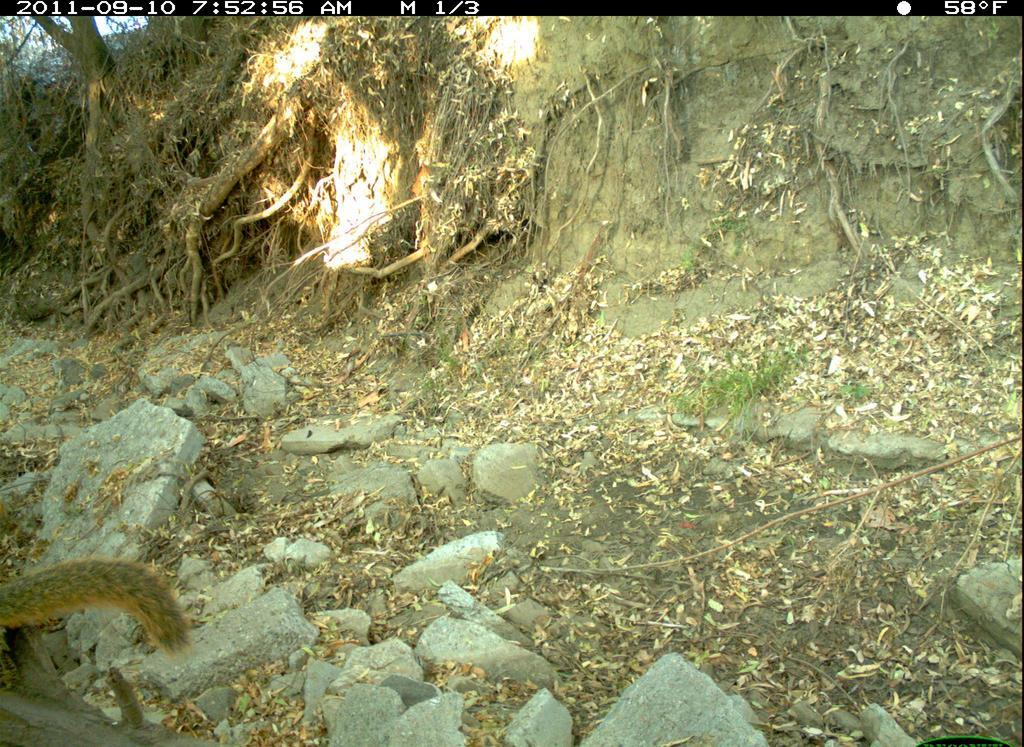squirrel: (1, 547, 201, 675)
